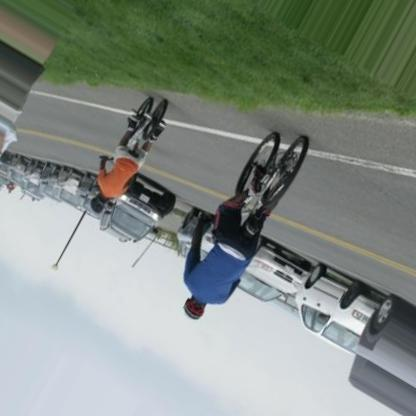with helmet: (181, 297, 207, 322), (88, 193, 116, 213)
